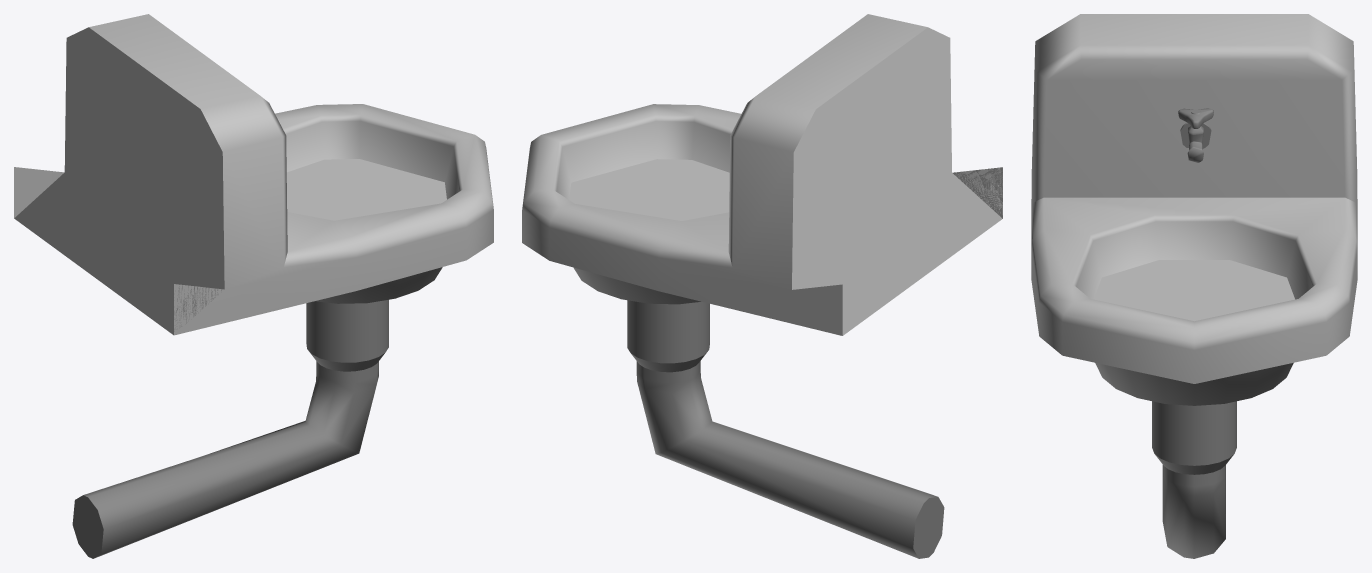
Rendered from washbasin.obj.
The picture shows the model from 3 angles, left to right: view 1: azimuth 30°, elevation 25°; view 2: azimuth 150°, elevation 25°; view 3: azimuth 270°, elevation 25°; orthographic projection.
Parts seen in each view (by area): view 1: group1 jyaguchi_sweep7, group1 jyaguchi_sweep4, group1 jyaguchi_sweep6; view 2: group1 jyaguchi_sweep7, group1 jyaguchi_sweep4, group1 jyaguchi_sweep6; view 3: group1 jyaguchi_sweep7, group1 jyaguchi_sweep6, group1 jyaguchi_sweep4, group1 jyagu_pCube3, jyagu_pCylinder1 group1.
Part boxes in pixels (x1,y1,x2,y2): group1 jyaguchi_sweep7: (14, 14, 493, 335); group1 jyaguchi_sweep4: (72, 361, 378, 558); group1 jyaguchi_sweep6: (306, 267, 442, 371); group1 jyaguchi_sweep7: (522, 14, 1002, 335); group1 jyaguchi_sweep4: (636, 361, 944, 558); group1 jyaguchi_sweep6: (574, 267, 709, 372); group1 jyaguchi_sweep7: (1031, 14, 1357, 383); group1 jyaguchi_sweep6: (1095, 363, 1293, 474); group1 jyaguchi_sweep4: (1162, 465, 1225, 558); group1 jyagu_pCube3: (1180, 122, 1211, 162); jyagu_pCylinder1 group1: (1178, 108, 1213, 128).
Size of the model in its own units: 1.88 by 2.14 by 1.31.
1 material, 1 textured.
